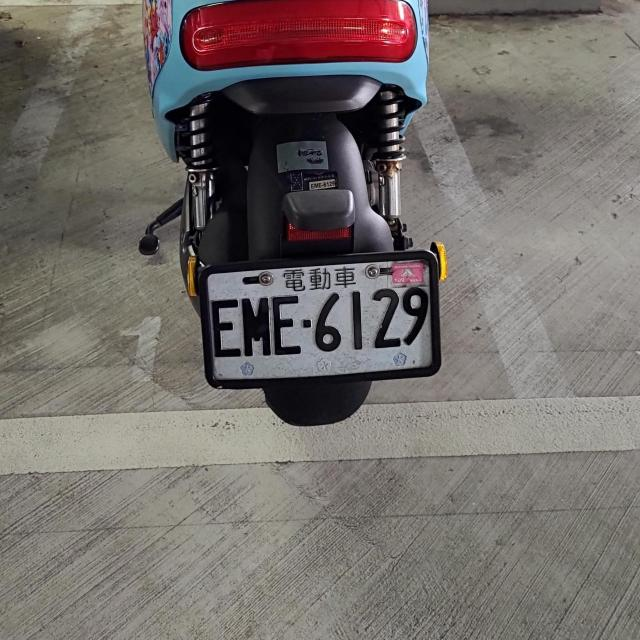W: (201, 258, 441, 383)
